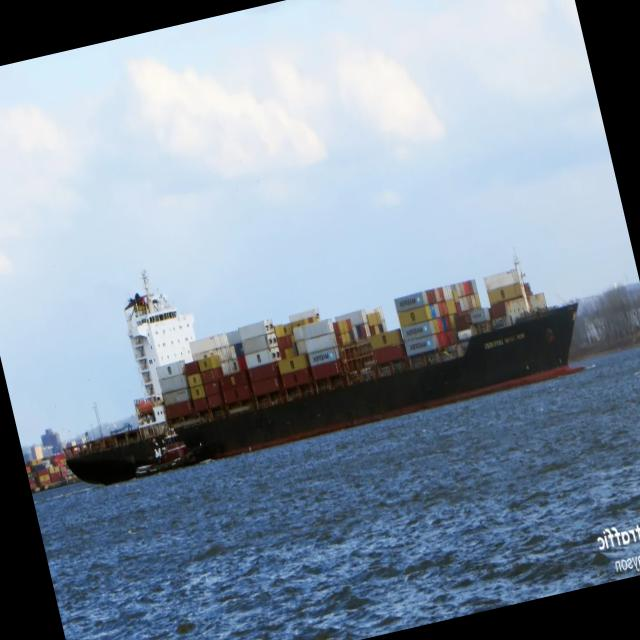Cargo: (67, 267, 576, 484)
Tug: (135, 426, 202, 475)
